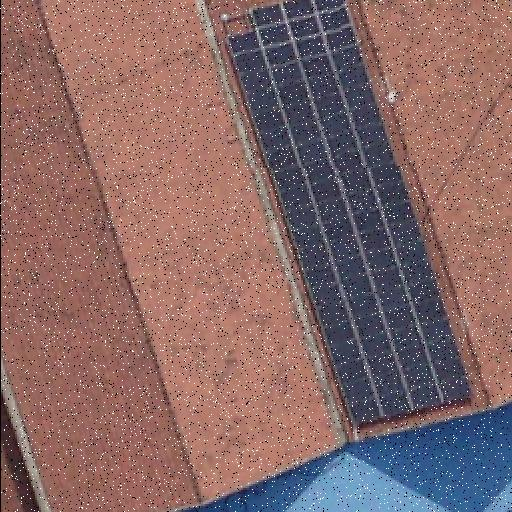solar-panel: (226, 0, 475, 446)
